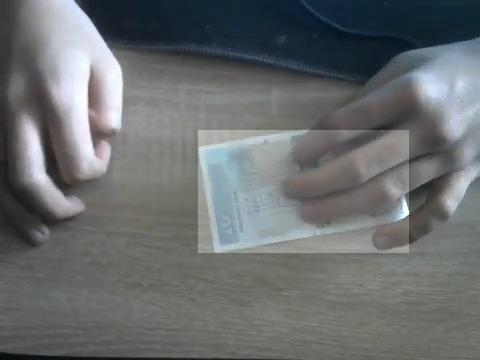20leva: (198, 130, 409, 253)
